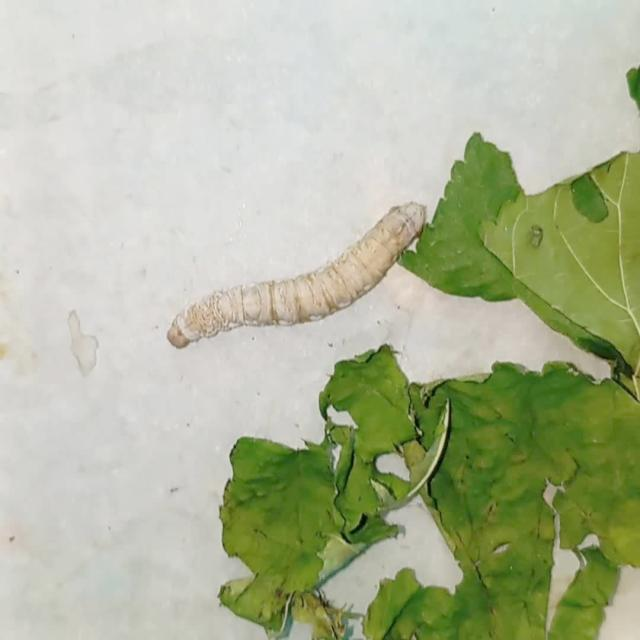Grasserie: (152, 188, 447, 354)
